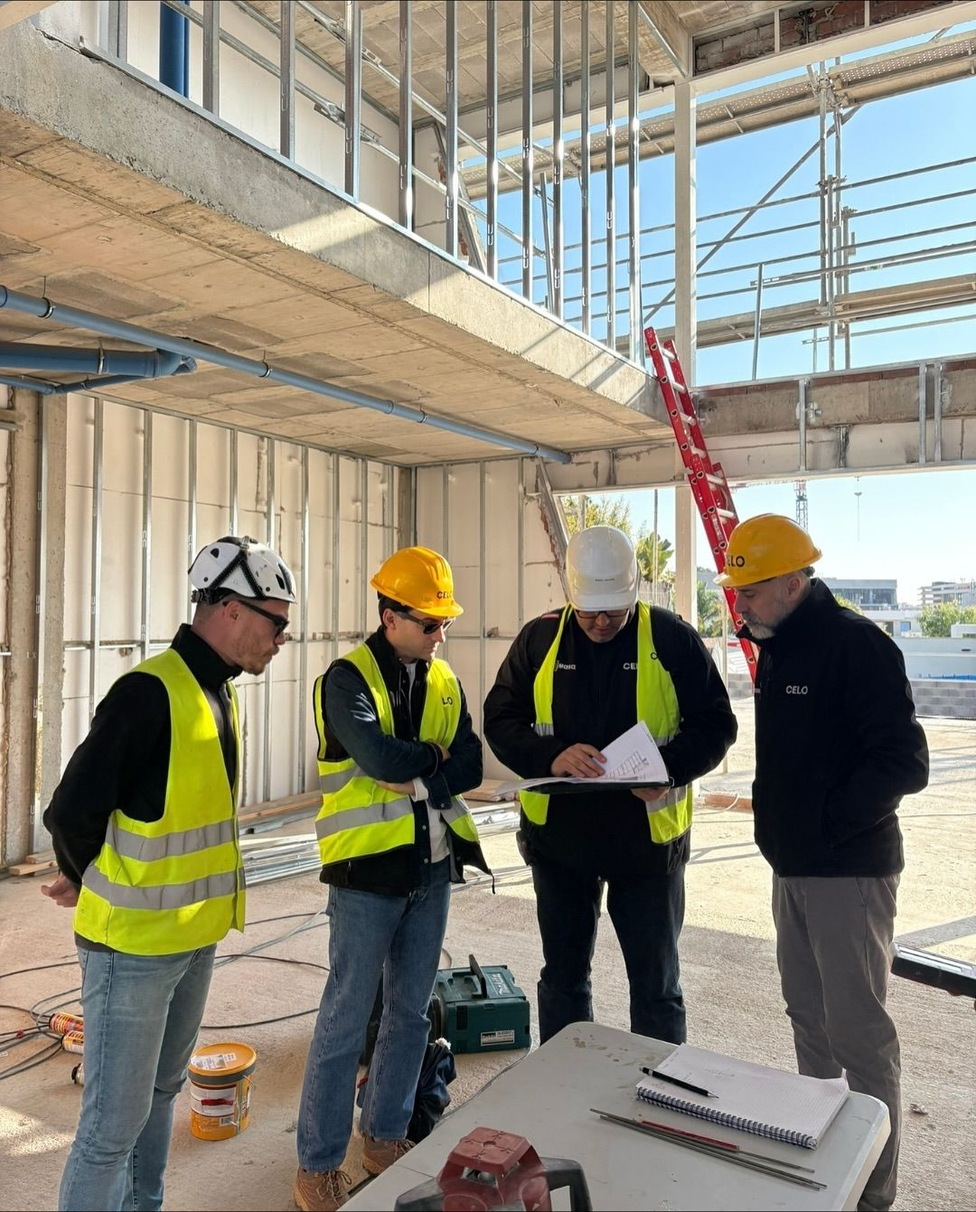hardhat: (551, 527, 663, 608), (180, 531, 292, 606), (719, 522, 835, 587), (361, 548, 459, 624)
no_safety_vest: (739, 606, 911, 898)
person: (684, 504, 934, 1184), (48, 518, 294, 1205), (459, 509, 733, 1077), (294, 534, 493, 1211)
safety_vest: (76, 641, 250, 965), (306, 638, 480, 870), (523, 606, 681, 857)
